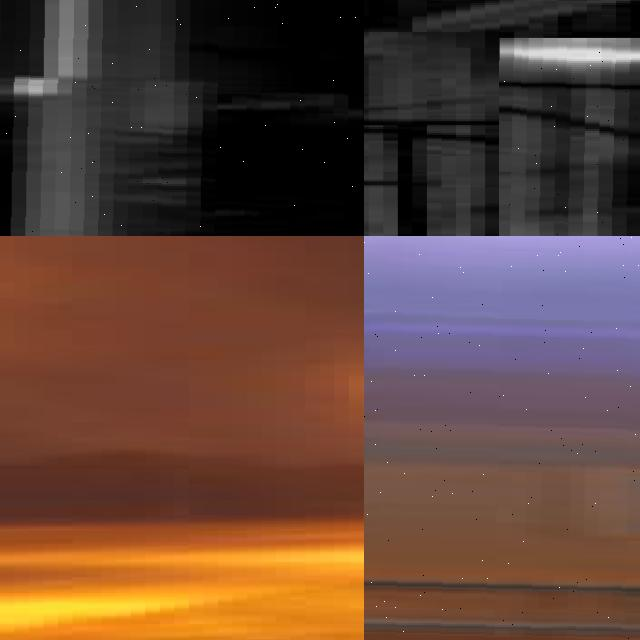street light: (364, 236, 640, 640), (0, 0, 364, 236), (364, 115, 640, 236), (499, 38, 640, 236)
